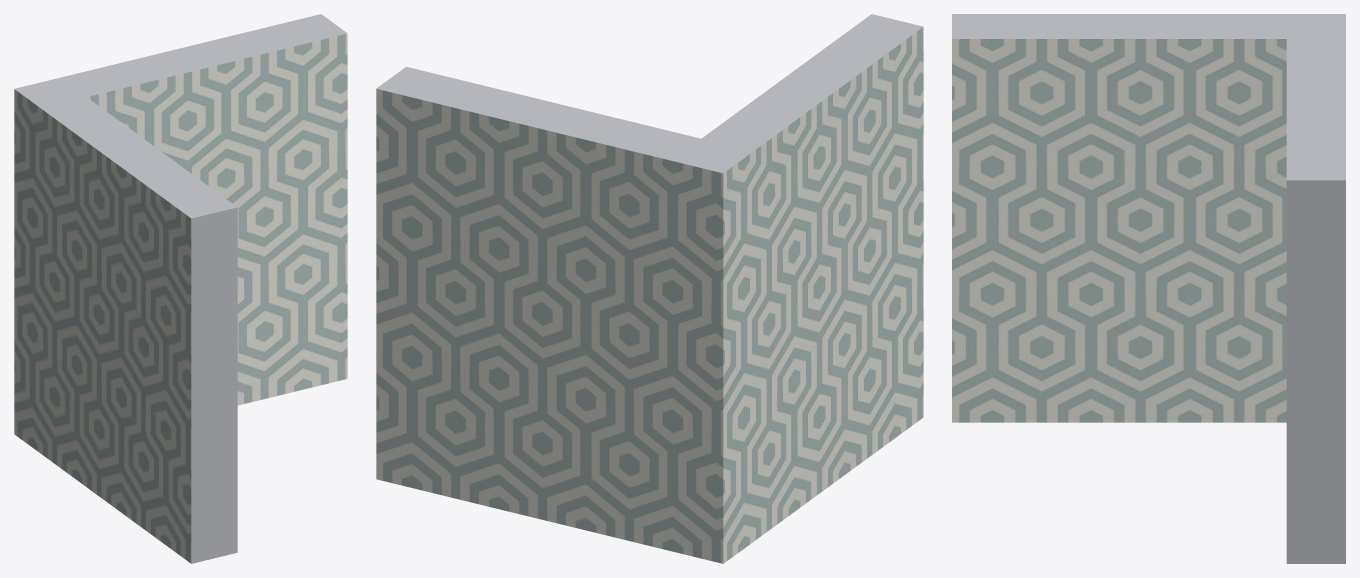
The model's file is tile_wall_angle.gltf.
3 views of the same model, side by side, from view 1: azimuth 30°, elevation 25°; view 2: azimuth 150°, elevation 25°; view 3: azimuth 270°, elevation 25° (orthographic). The views are drawn at different scales.
Visible parts, largest first — view 1: tile_wall_angle; view 2: tile_wall_angle; view 3: tile_wall_angle.
Part boxes in pixels (<box>): tile_wall_angle: <box>14,14,347,563</box>; tile_wall_angle: <box>376,14,923,563</box>; tile_wall_angle: <box>952,14,1345,563</box>.
Size of the model in its own units: 2 by 2.15 by 2.
3 materials, 1 textured.
